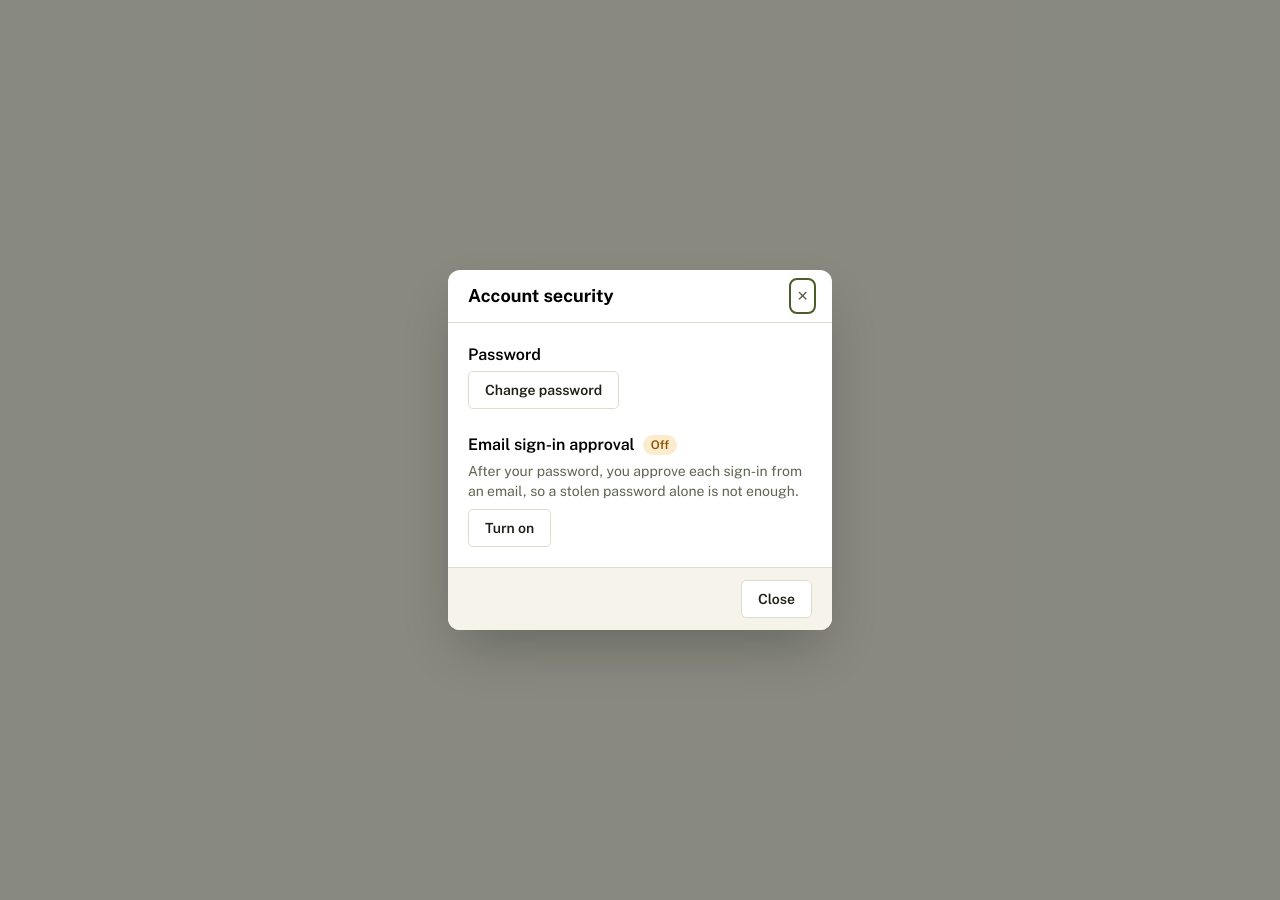
Test: account security › can be cancelled without sending anything
Click the button "Turn on".
click(510, 528)  # box [468,509,551,547]
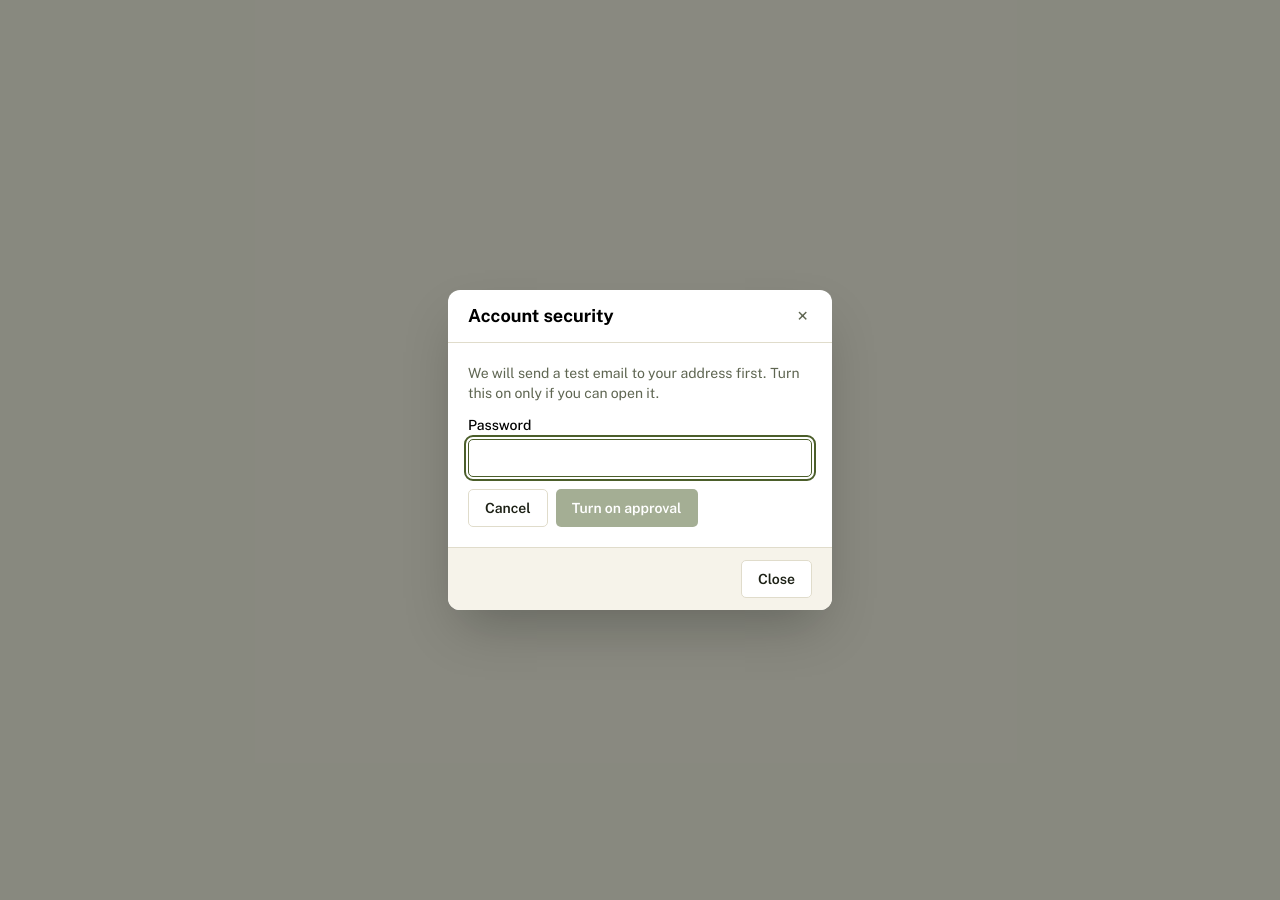
Click the button "Cancel".
click(508, 508)  # box [468,489,548,527]
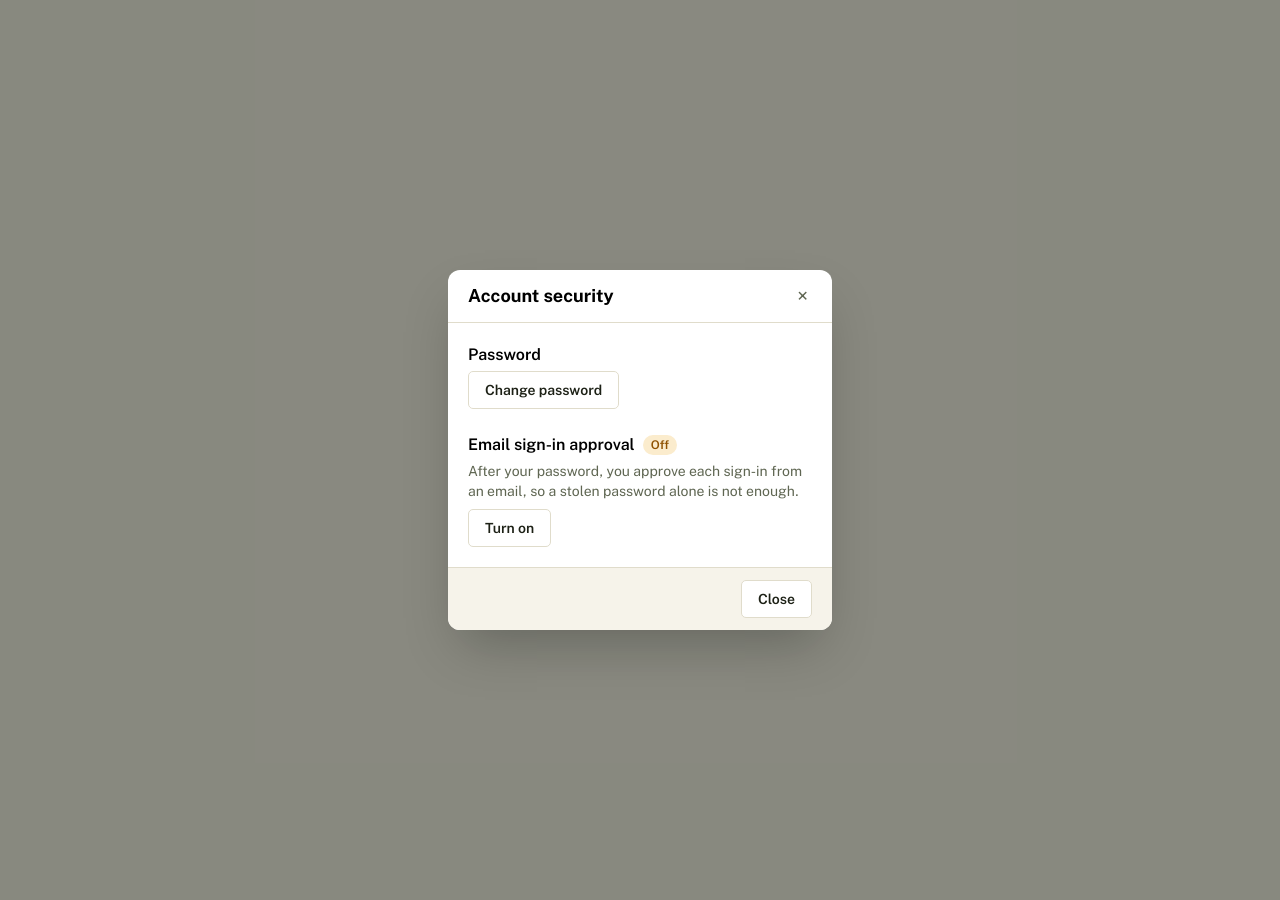
Now the button "Turn on" is shown, box [468,509,551,547]
